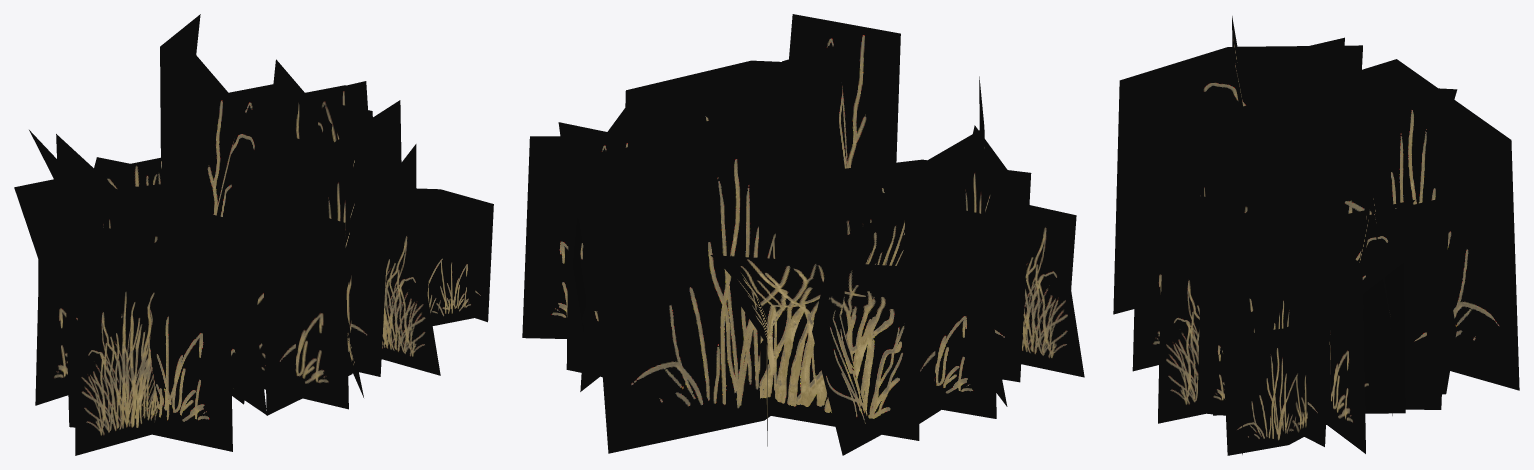
The model's file is grass_dry.glb.
3 renders of one model, left to right at view 1: azimuth 30°, elevation 25°; view 2: azimuth 150°, elevation 25°; view 3: azimuth 270°, elevation 25°, orthographic. The views are drawn at different scales.
Visible parts, largest first — view 1: grass_dry-convcol; view 2: grass_dry-convcol; view 3: grass_dry-convcol.
Boxes of the visible parts, x1,y1,x2,y2 form: grass_dry-convcol: (14, 14, 493, 455); grass_dry-convcol: (522, 14, 1084, 455); grass_dry-convcol: (1113, 16, 1519, 455).
Bounding box in the file's own units: 0.6501 × 0.45 × 0.5135.
1 material, 1 textured.
